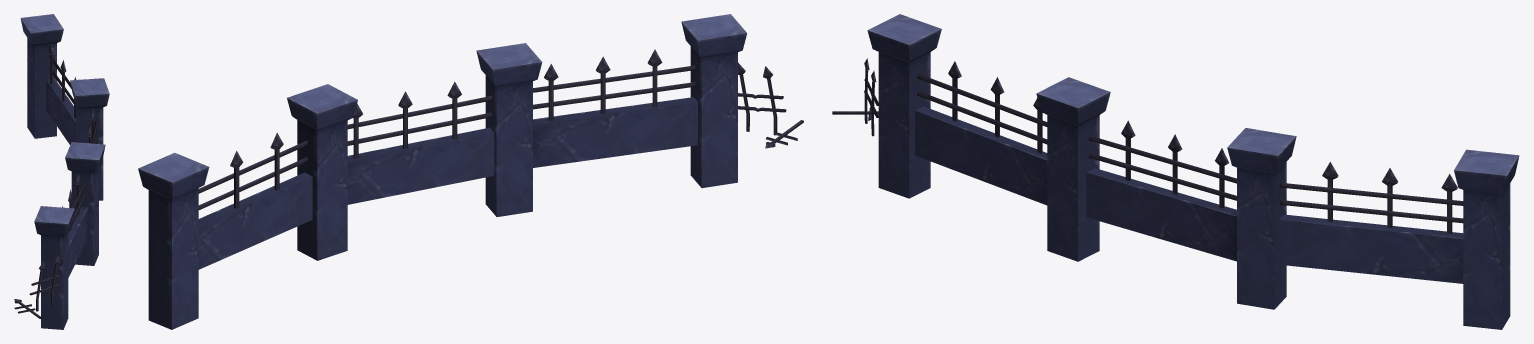
Rendered from Area09_1.fbx.
3 views of the same model, side by side, from view 1: azimuth 30°, elevation 25°; view 2: azimuth 150°, elevation 25°; view 3: azimuth 270°, elevation 25° (orthographic). The views are drawn at different scales.
Visible parts, largest first — view 1: Area09_1; view 2: Area09_1; view 3: Area09_1.
Part boxes in pixels (box(x1,y1,x2,y2)): Area09_1: box(14, 14, 109, 329); Area09_1: box(138, 14, 803, 329); Area09_1: box(832, 14, 1519, 329).
Size of the model in its own units: 1513 by 618 by 2433.
